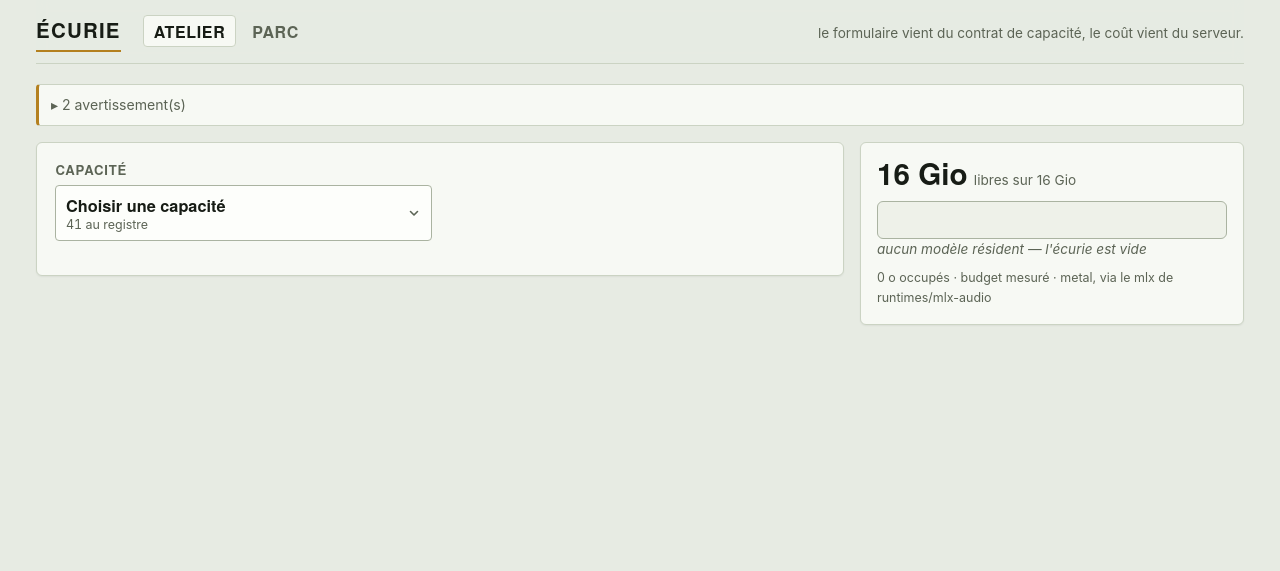
Test: lancer un job › la fin du flux n_efface pas ce que le job a rendu
Click the button "Choisir une capacité 41 au registre" at (146, 205), box x1=55 y1=185 x2=432 y2=241
(page scrolled)
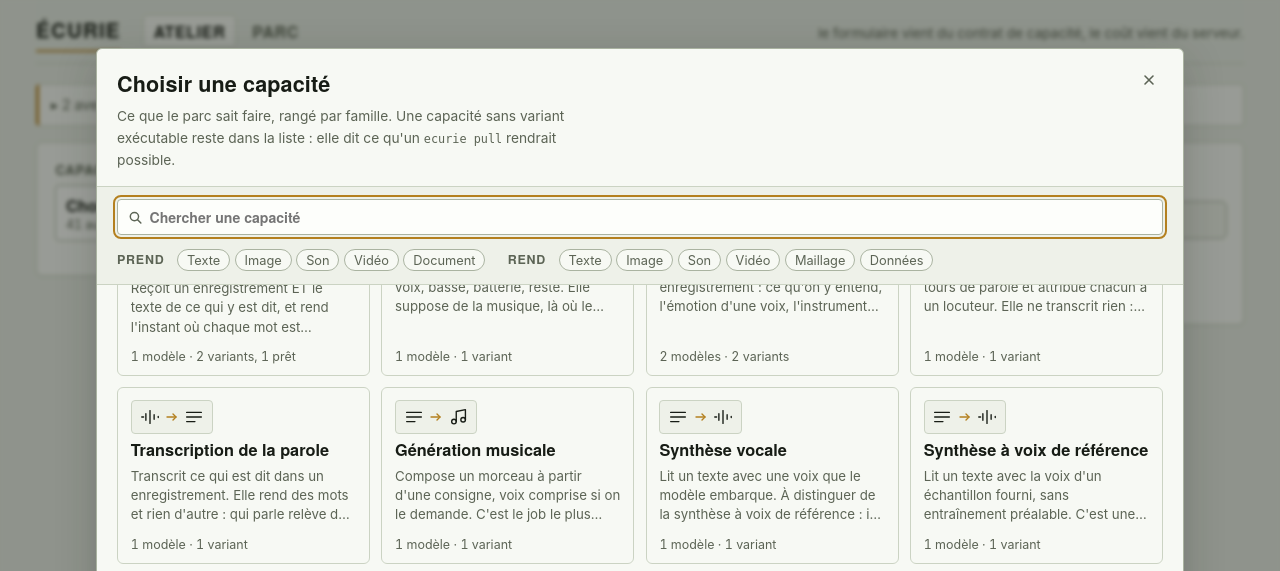
Click the button "Synthèse vocale" at (772, 475), box x1=646 y1=387 x2=899 y2=564
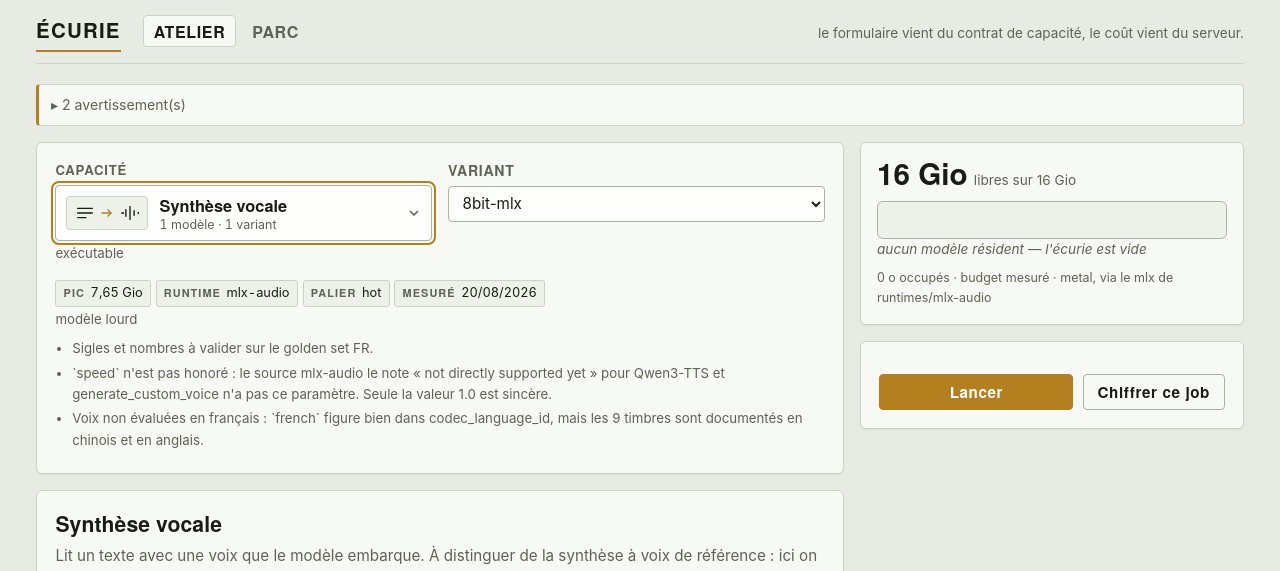
Click the button "Lancer" at (976, 392), box x1=879 y1=374 x2=1073 y2=410
(page scrolled)
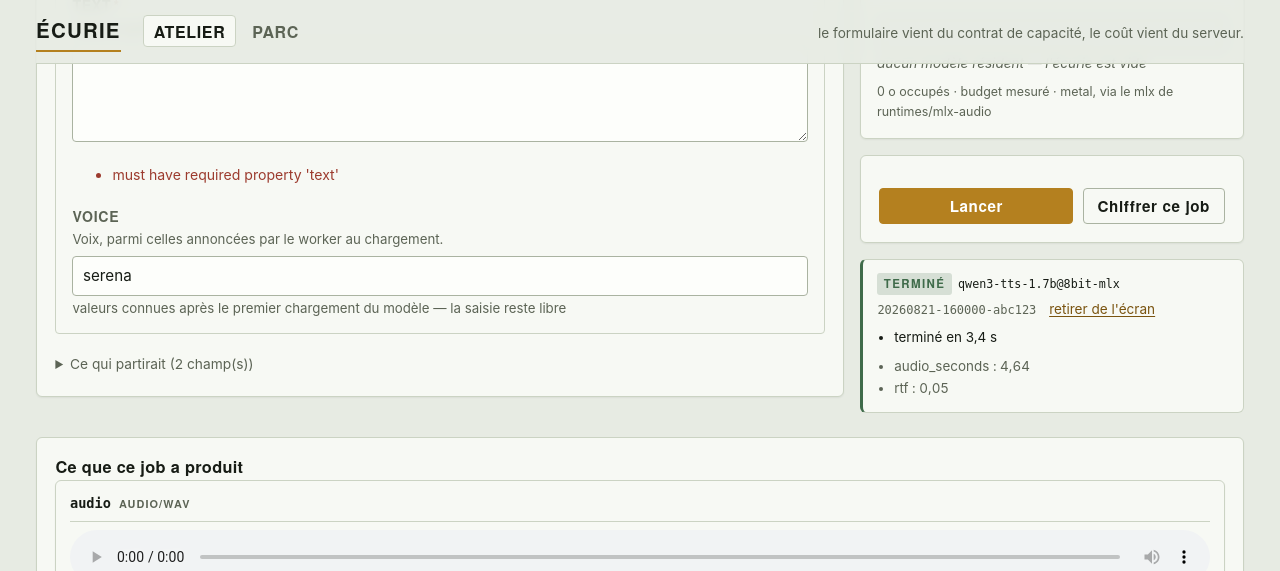
expect the text "terminé" is shown: met, box x1=877 y1=273 x2=952 y2=294
expect the text "qwen3-tts-1.7b@8bit-mlx" is shown: met, box x1=958 y1=274 x2=1120 y2=293
expect the heading "Ce que ce job a produit" is shown: met, box x1=55 y1=455 x2=243 y2=478
